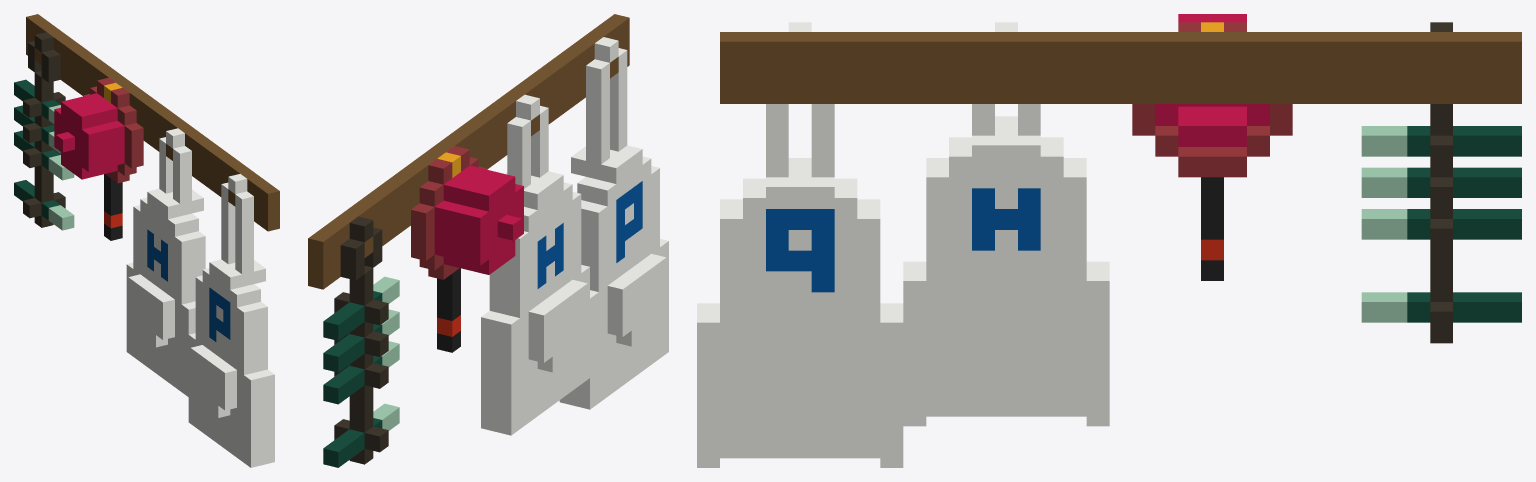
File: Set_Wall_02.fbx
The picture shows the model from 3 angles, left to right: view 1: azimuth 30°, elevation 25°; view 2: azimuth 150°, elevation 25°; view 3: azimuth 270°, elevation 25°; orthographic projection. The views are drawn at different scales.
Visible parts, largest first — view 1: Set_Wall_02:Set_Wall_02; view 2: Set_Wall_02:Set_Wall_02; view 3: Set_Wall_02:Set_Wall_02.
Part boxes in pixels (left/top/right/bottom): Set_Wall_02:Set_Wall_02: left=14, top=14, right=279, bottom=467; Set_Wall_02:Set_Wall_02: left=308, top=14, right=668, bottom=467; Set_Wall_02:Set_Wall_02: left=697, top=14, right=1521, bottom=467.
Size of the model in its own units: 6 by 21 by 36.
